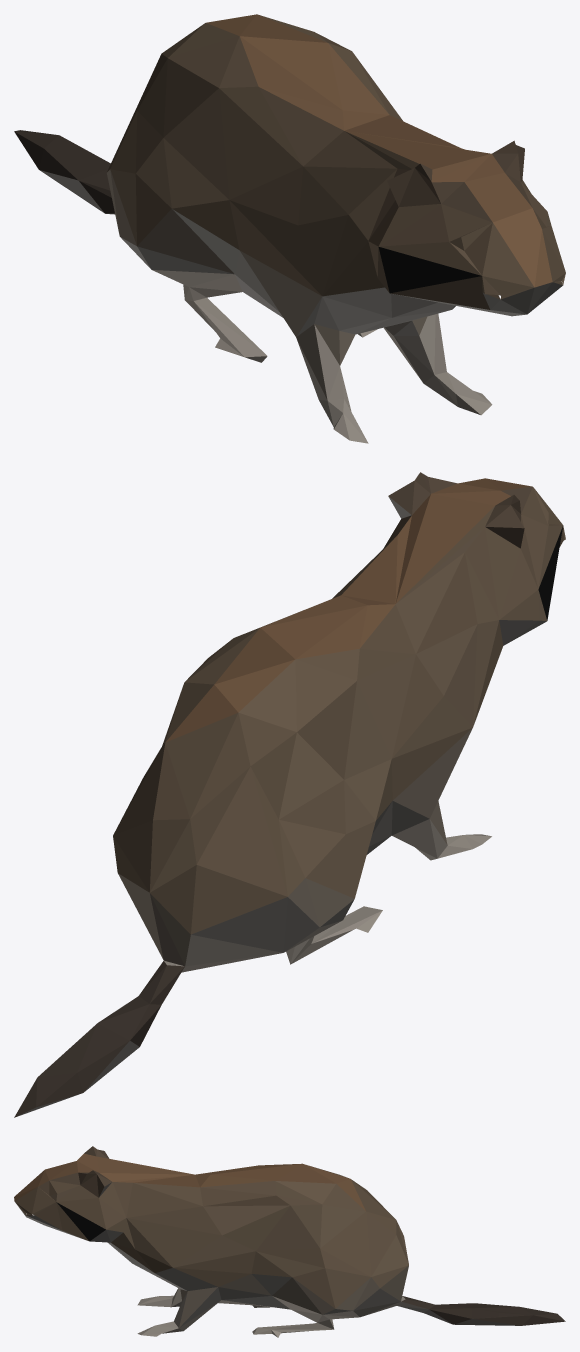
Rendered from vole.glb.
3 views of the same model, one above another, from view 1: azimuth 30°, elevation 25°; view 2: azimuth 150°, elevation 25°; view 3: azimuth 270°, elevation 25° (orthographic). The views are drawn at different scales.
Parts seen in each view (by area): view 1: lod0; view 2: lod0; view 3: lod0.
Part boxes in pixels (x1,y1,x2,y2): lod0: (14,14,565,443); lod0: (14,472,565,1117); lod0: (14,1146,565,1337).
Size of what is drawn, in the model's own units: 0.0399 by 0.0551 by 0.1691.
